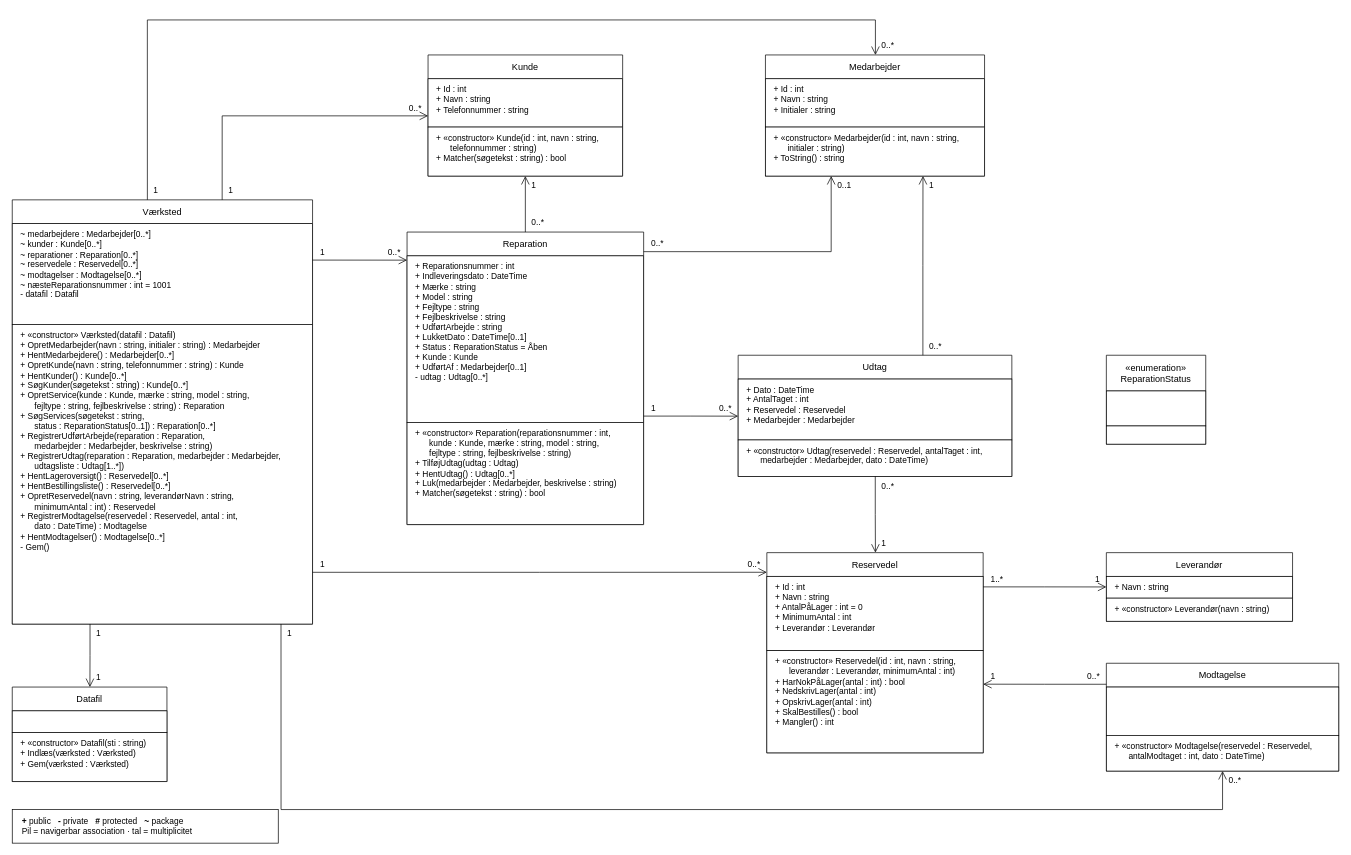
This 1351x855 diagram has some shape labels left out. Here are the shapes that lost their labels. From the top down, the centre of each, then its label:
At (x=1156, y=408): "Åben Lukket".
At (x=89, y=721): "- sti : string".
At (x=1222, y=710): "+ Dato : DateTime + AntalModtaget : int + Reservedel : Reservedel".
